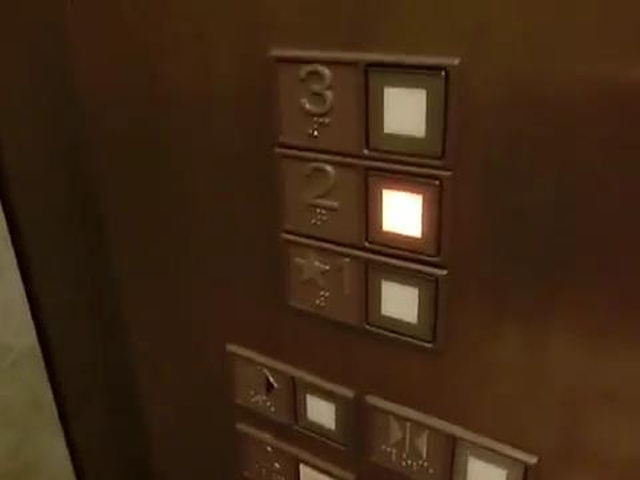2: (270, 141, 453, 270)
3: (267, 46, 463, 169)
open: (222, 340, 357, 458)
s1: (271, 226, 448, 353)
